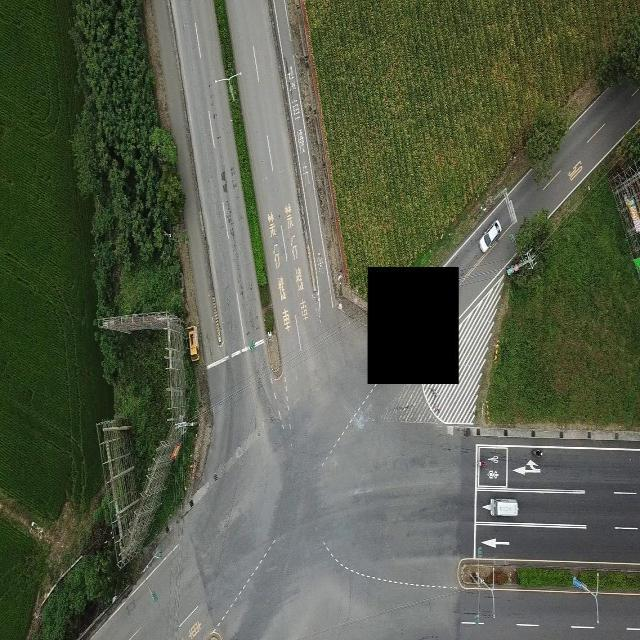bike: (529, 444, 546, 460), (474, 457, 487, 467)
car: (478, 218, 502, 253)
truck: (489, 496, 519, 517)
